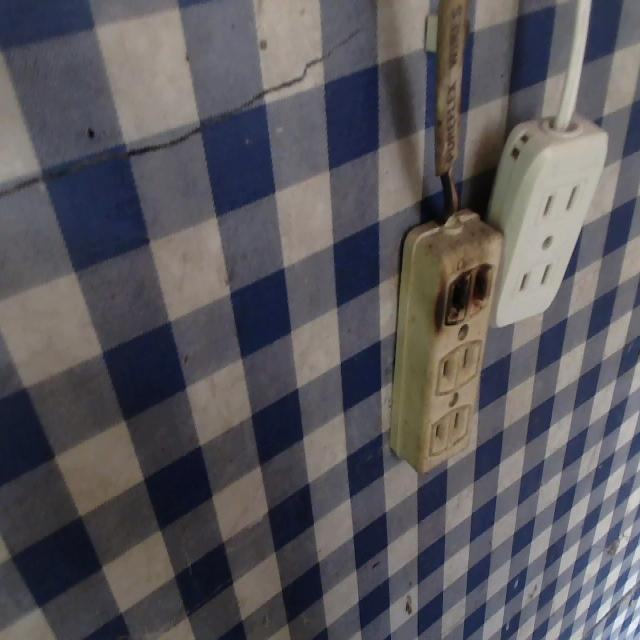-: (434, 255, 495, 325)
